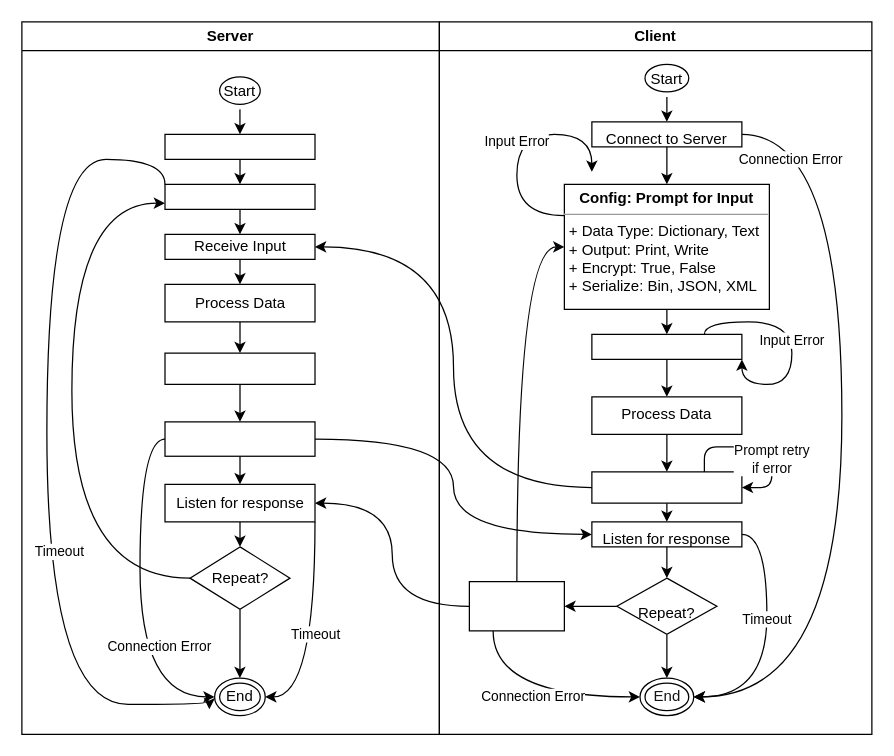
The diagram is 894 pixels wide and 756 high, and some of its shapes have lost their labels. The shapes that lost their labels are listed below. From the top down, each one's centre as x and y in pixels, then its label:
At point 239,146: "Start Server".
At point 239,196: "Listen".
At point 666,346: "Data Input".
At point 239,368: "Output".
At point 239,438: "Response: Success".
At point 666,487: "Send output".
At point 516,605: "Send response".
